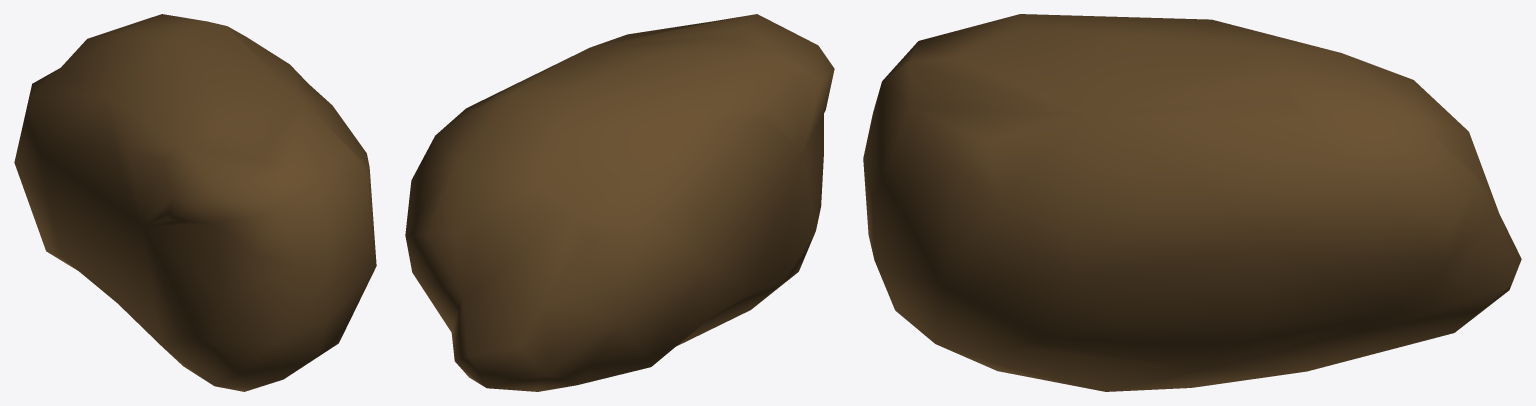
Rendered from large rock.fbx.
The picture shows the model from 3 angles, left to right: view 1: azimuth 30°, elevation 25°; view 2: azimuth 150°, elevation 25°; view 3: azimuth 270°, elevation 25°; orthographic projection. The views are drawn at different scales.
Parts seen in each view (by area): view 1: Large rock; view 2: Large rock; view 3: Large rock.
Boxes of the visible parts, <box> form: Large rock: <box>14,14,376,391</box>; Large rock: <box>405,14,834,391</box>; Large rock: <box>863,14,1521,391</box>.
Size of the model in its own units: 548 by 566 by 1004.
